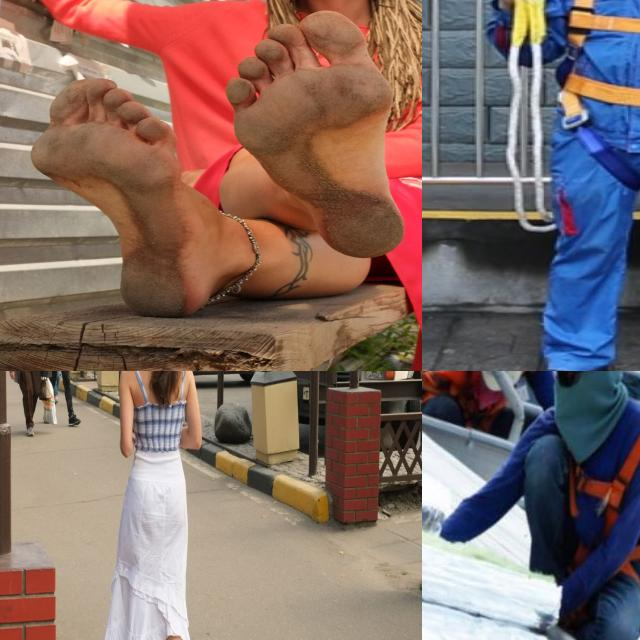Barefoots: (226, 10, 404, 258), (30, 78, 201, 318)
Harness: (555, 0, 640, 179), (572, 435, 640, 535)
